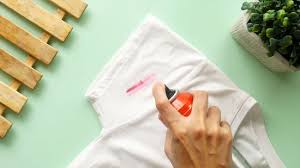kimchi: (119, 77, 152, 94)
